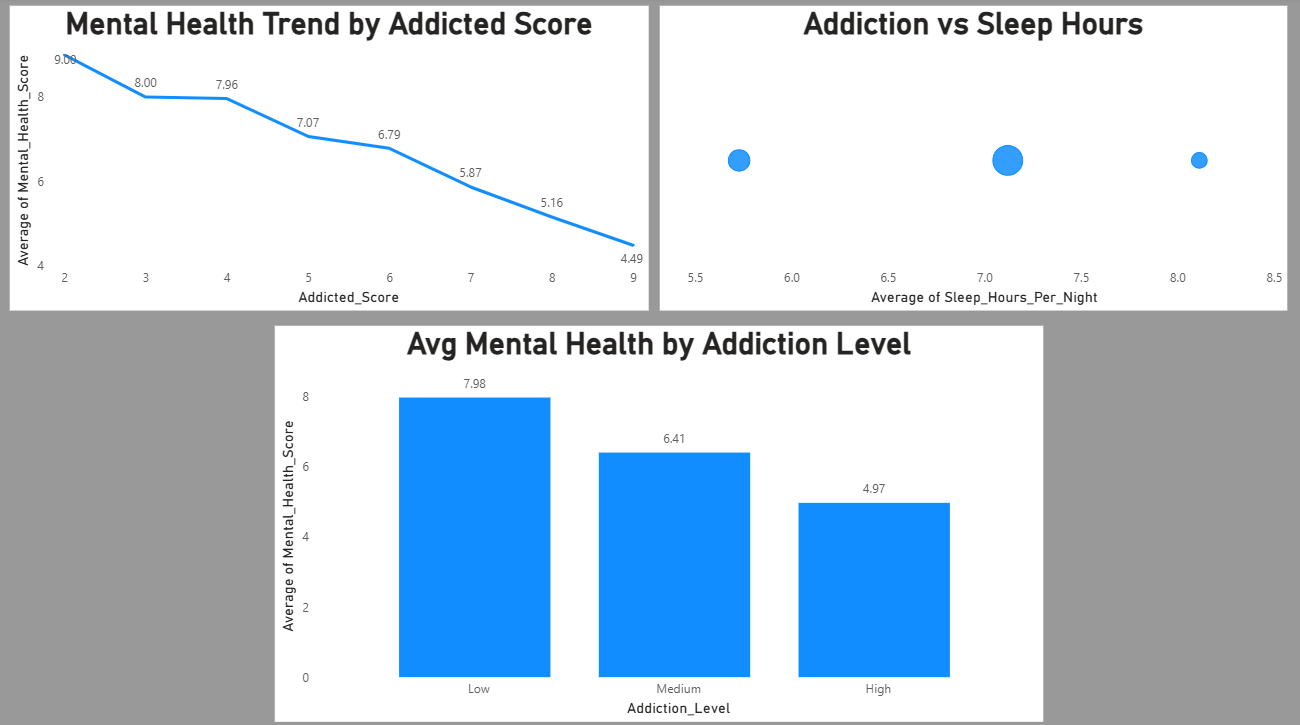

What the dashboard file says about the page in this screenshot:
{"tool":"powerbi","page":{"name":"Mental Health Impact","canvas":[1280,720],"ordinal":1},"visuals":[{"type":"lineChart","title":"Mental Health Trend by Addicted Score","fields":{"Category":["Student Details.Addicted_Score"],"Y":["Avg(Student Details.Mental_Health_Score)"]},"box":[13.5,8.6,627,299.4],"z":0},{"type":"scatterChart","title":"Addiction vs Sleep Hours","fields":{"Category":["Student Details.Addiction_Level"],"X":["Avg(Student Details.Sleep_Hours_Per_Night)"],"Size":["CountNonNull(Student Details.Student_ID)"]},"box":[651.5,8.6,616,299.4],"z":1000},{"type":"clusteredColumnChart","title":"Avg Mental Health by Addiction Level","fields":{"Category":["Student Details.Addiction_Level"],"Y":["Avg(Student Details.Mental_Health_Score)"]},"box":[273.6,322.7,754.6,389],"z":2000}]}

Visuals, with their boxes in screenshot pixels (x1, y1, x2, y2), scaled from the page's 1280x720 canvas onto the 1300x725 screenshot:
"Mental Health Trend by Addicted Score" lineChart: x1=14, y1=9, x2=651, y2=310
"Addiction vs Sleep Hours" scatterChart: x1=662, y1=9, x2=1287, y2=310
"Avg Mental Health by Addiction Level" clusteredColumnChart: x1=278, y1=325, x2=1044, y2=717
